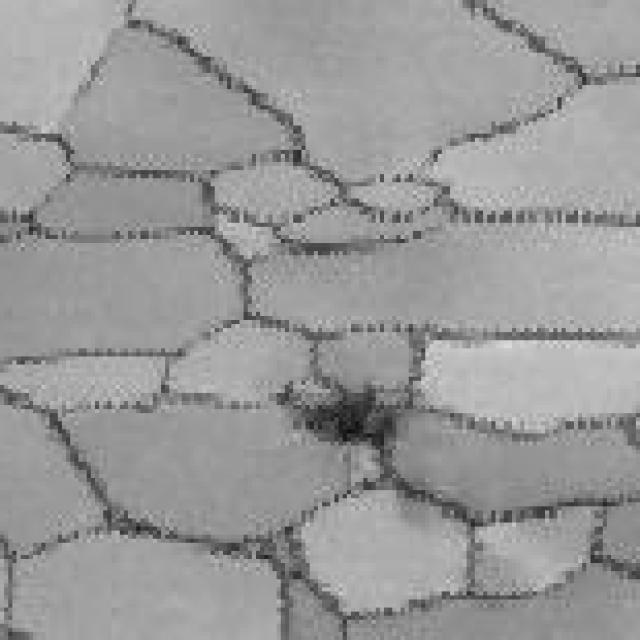good_void: (275, 382, 397, 458)
